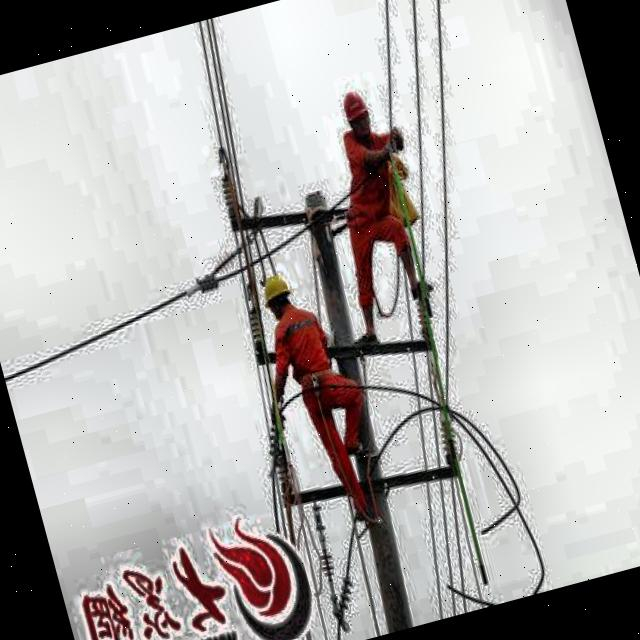helmet: (253, 264, 301, 322), (334, 84, 378, 142)
